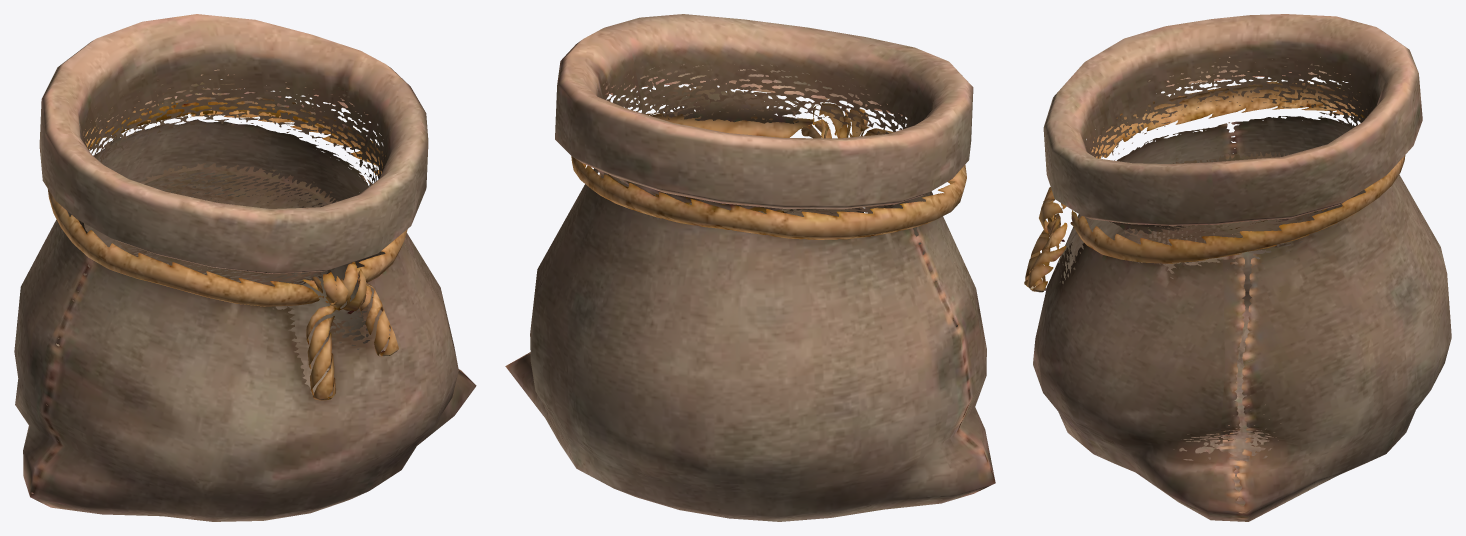
3 views of the same model, side by side, from view 1: azimuth 30°, elevation 25°; view 2: azimuth 150°, elevation 25°; view 3: azimuth 270°, elevation 25° (orthographic). The views are drawn at different scales.
Visible parts, largest first — view 1: SM_Sack_Small_01_LOD0; view 2: SM_Sack_Small_01_LOD0; view 3: SM_Sack_Small_01_LOD0.
Boxes of the visible parts, x1,y1,x2,y2 form: SM_Sack_Small_01_LOD0: (14, 14, 476, 521); SM_Sack_Small_01_LOD0: (505, 14, 995, 521); SM_Sack_Small_01_LOD0: (1024, 14, 1451, 521).
Size of the model in its own units: 0.6708 by 0.5325 by 0.5778.
1 material, 1 textured.
